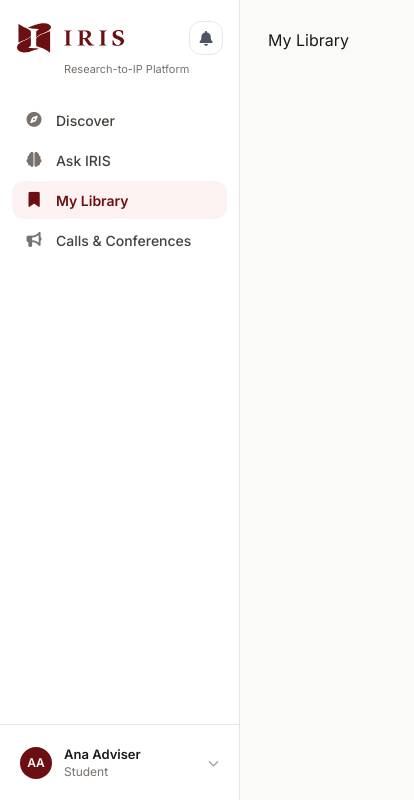
it: the account menu › opens Settings & Profile and closes behind it
This screenshot has width=414, height=800.
Click the button with aria-label "account menu". click: (120, 762)
box: 12,737 -> 227,788
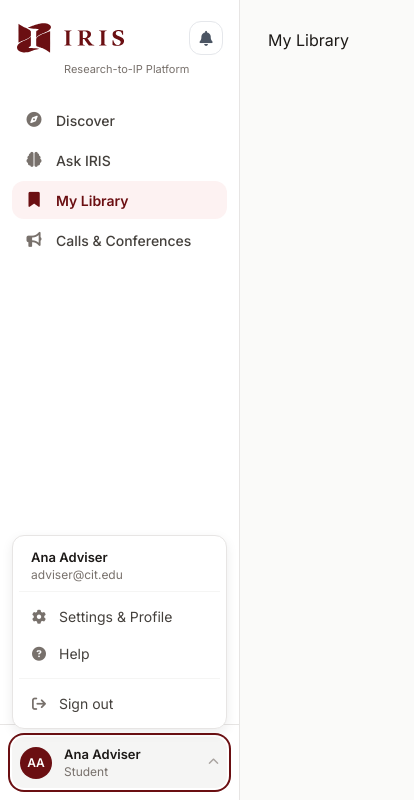
Click the link "Settings & Profile". click: (102, 616)
box: 31,608 -> 172,625
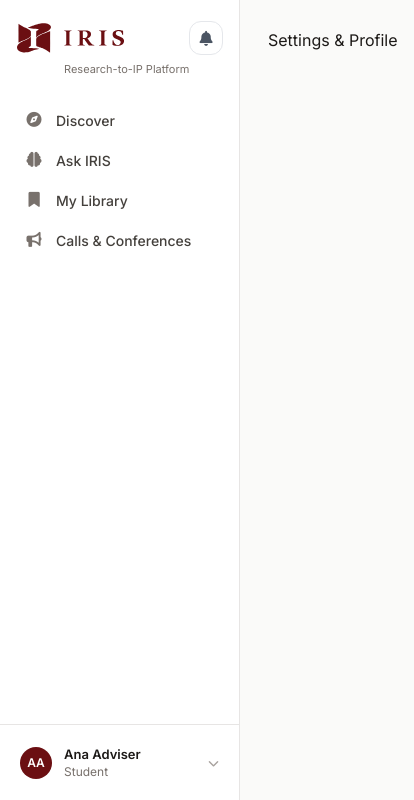
Expected: the heading "Settings & Profile" is shown, 268,30 -> 398,50
Expected: the link "Help" is gone
